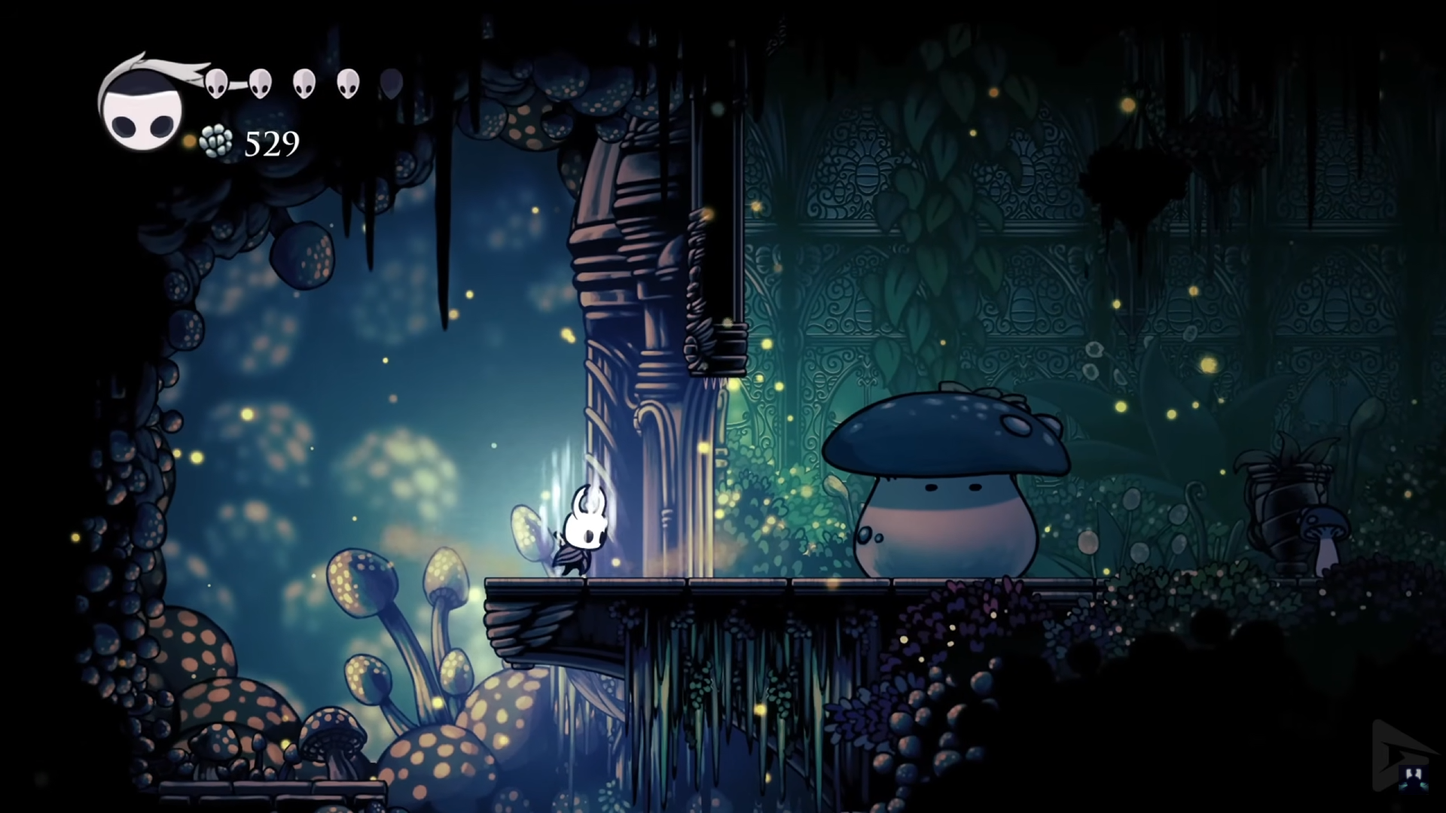HK: (549, 476, 619, 580)
